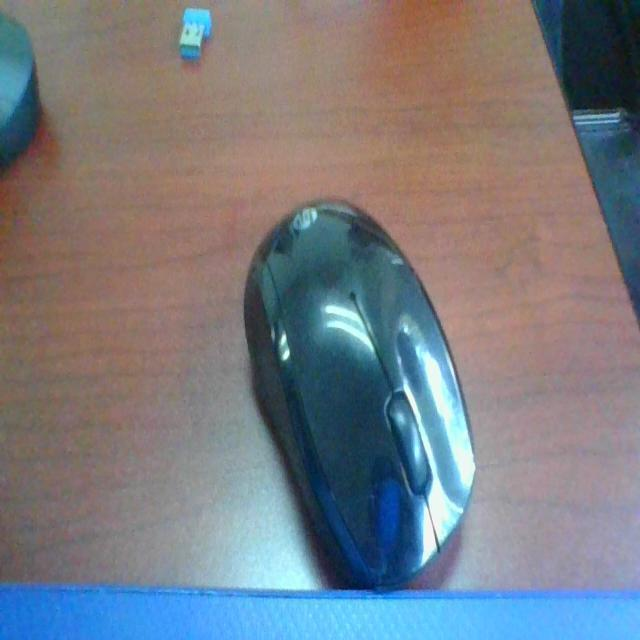Mouse: (230, 132, 486, 592)
